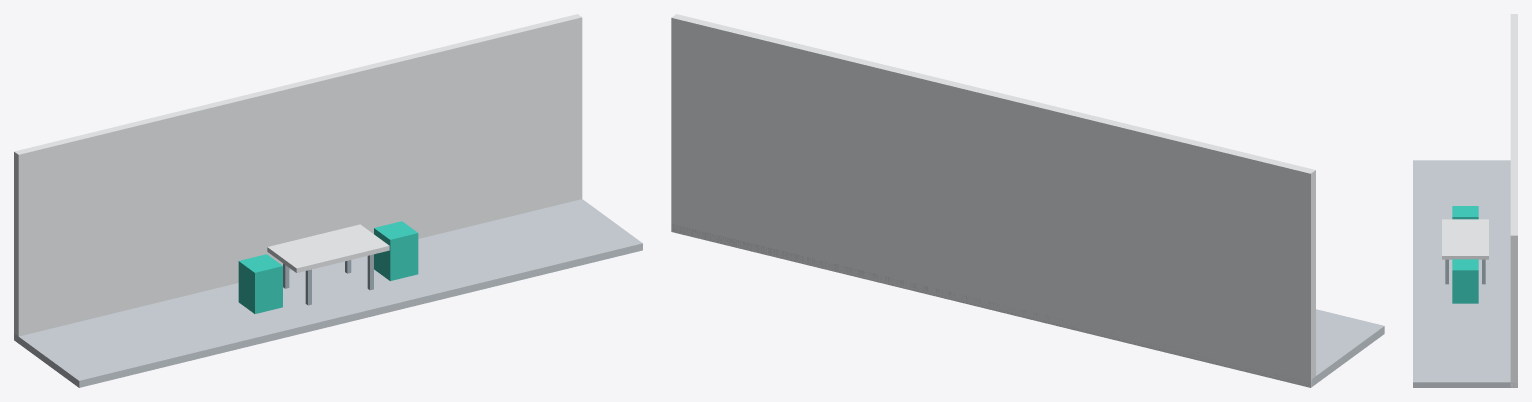
3 renders of one model, left to right at view 1: azimuth 30°, elevation 25°; view 2: azimuth 150°, elevation 25°; view 3: azimuth 270°, elevation 25°, orthographic. The views are drawn at different scales.
Parts seen in each view (by area): view 1: Exhibition Booth Concept; view 2: Exhibition Booth Concept; view 3: Exhibition Booth Concept.
Part boxes in pixels (left/top/right/bottom): Exhibition Booth Concept: left=14, top=14, right=642, bottom=387; Exhibition Booth Concept: left=671, top=14, right=1384, bottom=387; Exhibition Booth Concept: left=1413, top=14, right=1517, bottom=387.
Bounding box in the file's own units: 10 × 3.2 × 2.
